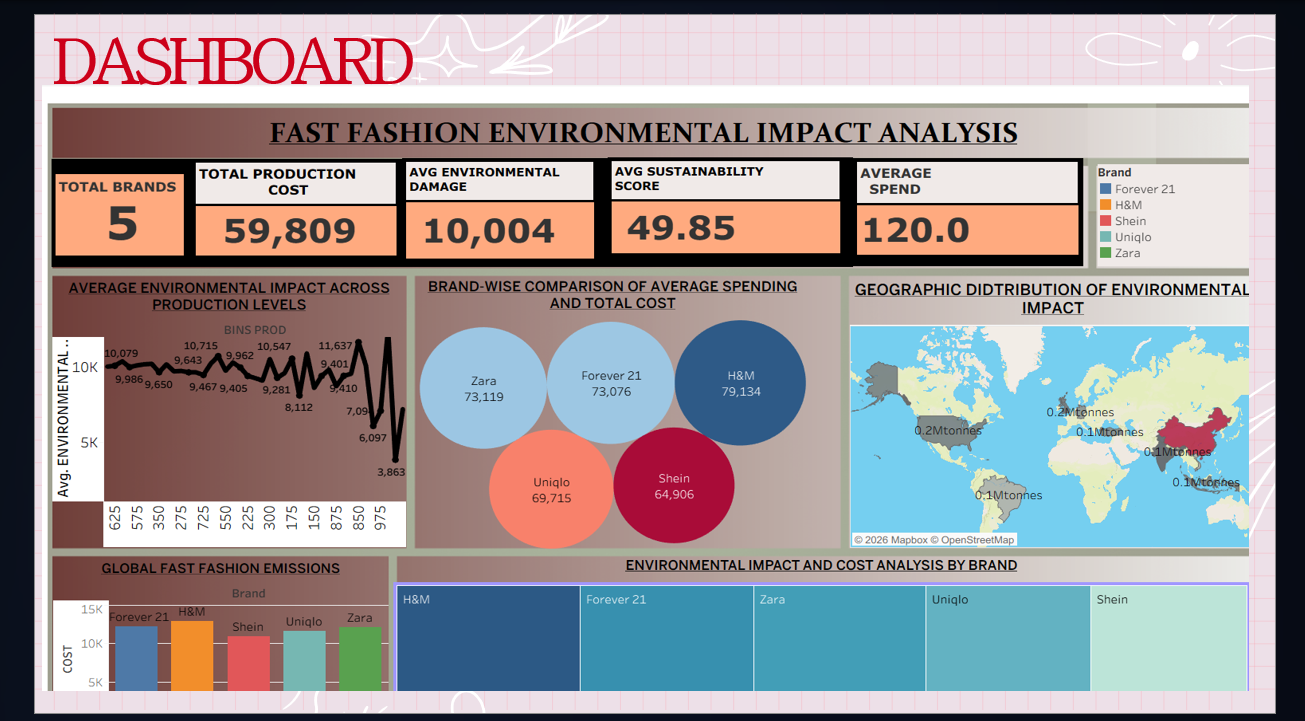

What the dashboard file says about the page in this screenshot:
{"tool":"tableau","page":{"name":"Dashboard 3","canvas":[1550,900],"ordinal":1},"visuals":[{"type":"image","param":"C:/Users/hp/Downloads/Telegram Desktop/TECHOLAS/project/HR background.png","box":[8,8,1534,884]},{"type":"text","box":[169,27,1184,67]},{"type":"worksheet","title":"KPI3","mark":"Automatic","box":[716,93,308,144]},{"type":"worksheet","title":"KPI2","mark":"Automatic","box":[458,94,283,143]},{"type":"worksheet","title":"KPI5","mark":"Automatic","box":[1024,94,289,142]},{"type":"worksheet","title":"KPI4","mark":"Automatic","box":[18,95,177,142]},{"type":"worksheet","title":"KPI1","mark":"Automatic","box":[194,95,266,142]},{"type":"legend","title":"OB1","param":"[federated.06jm3br1vdiiir1360dej1via5vg].[none:Brand:nk]","box":[1331,102,201,134]},{"type":"worksheet","title":"OB4","mark":"Circle","box":[474,248,533,359]},{"type":"worksheet","title":"OB5","mark":"Line","rows":["Carbon_Emissions_tCO2e"],"cols":["Monthly Production Tonnes (bin)"],"box":[19,250,444,355]},{"type":"worksheet","title":"OB3","mark":"Multipolygon","box":[1020,251,510,355]},{"type":"worksheet","title":"OB2","mark":"Automatic","box":[447,615,1081,259]},{"type":"worksheet","title":"OB1","mark":"Bar","rows":["Avg_Item_Price_USD"],"cols":["Brand"],"box":[20,619,421,253]}]}

Visuals, with their boxes on the page's 1550x900 design canvas (x1, y1, x2, y2). These are canvas units, not pixel positions in the 1305x721 screenshot, which may show the page scaled, cropped or inside an application window:
image: 8 8 1542 892
text: 169 27 1353 94
"KPI3" worksheet: 716 93 1024 237
"KPI2" worksheet: 458 94 741 237
"KPI5" worksheet: 1024 94 1313 236
"KPI4" worksheet: 18 95 195 237
"KPI1" worksheet: 194 95 460 237
"OB1" legend: 1331 102 1532 236
"OB4" worksheet (Circle marks): 474 248 1007 607
"OB5" worksheet (Line marks): 19 250 463 605
"OB3" worksheet (Multipolygon marks): 1020 251 1530 606
"OB2" worksheet: 447 615 1528 874
"OB1" worksheet (Bar marks): 20 619 441 872
